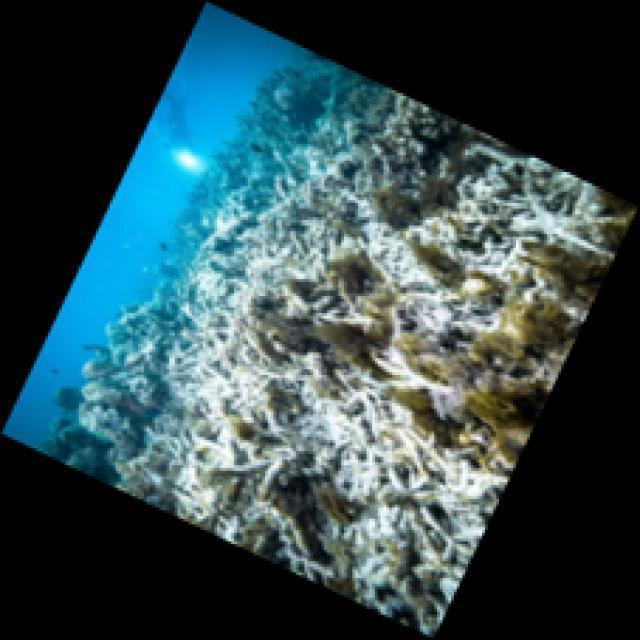Dead Coral: (85, 286, 369, 490), (268, 365, 535, 574), (349, 176, 588, 345), (217, 132, 378, 284)
